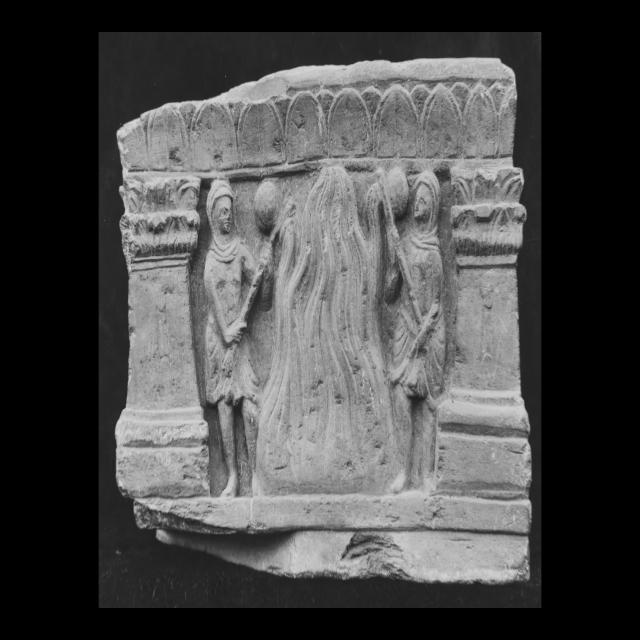buddha-pyre: (252, 167, 397, 509)
